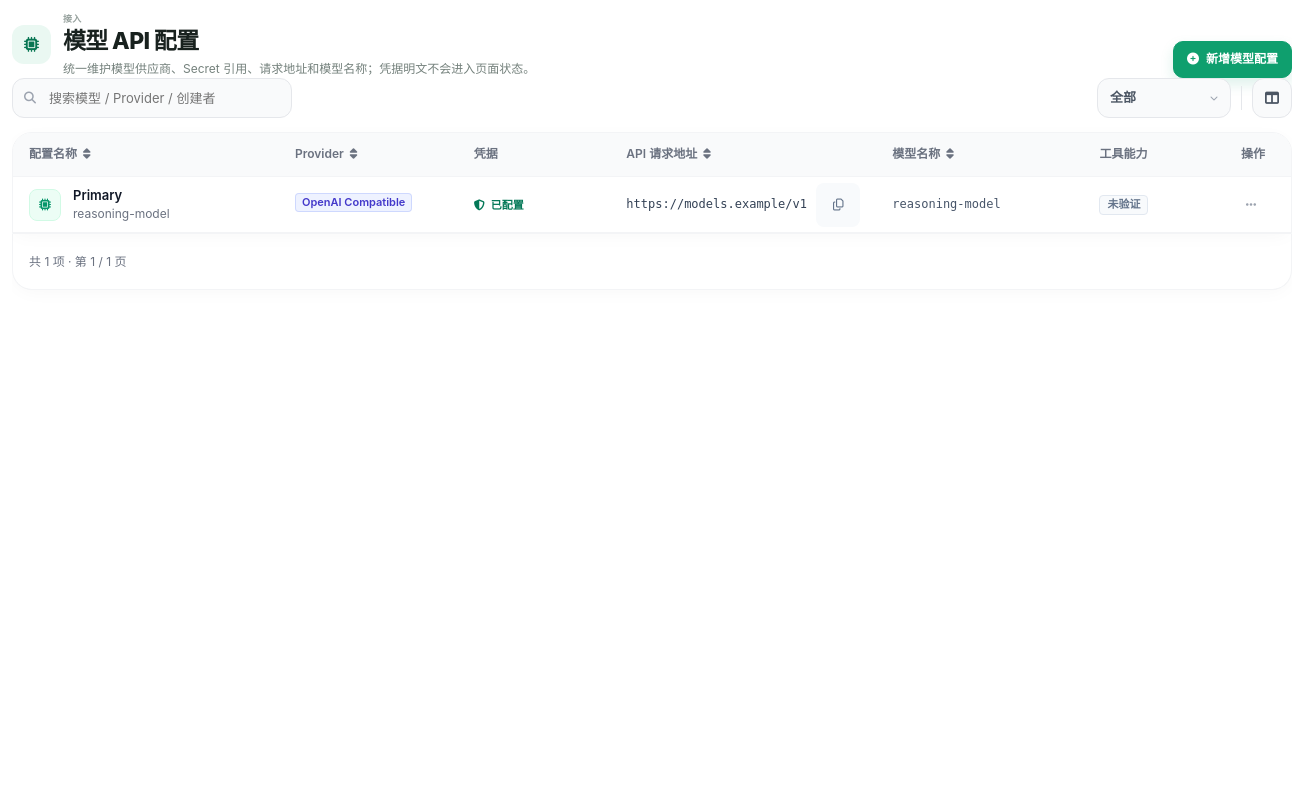
model config v1 behavior › verifies only the persisted v1 resource and reloads its active page
Click the button named "更多操作" at (1251, 205), box [1233,187,1269,223]
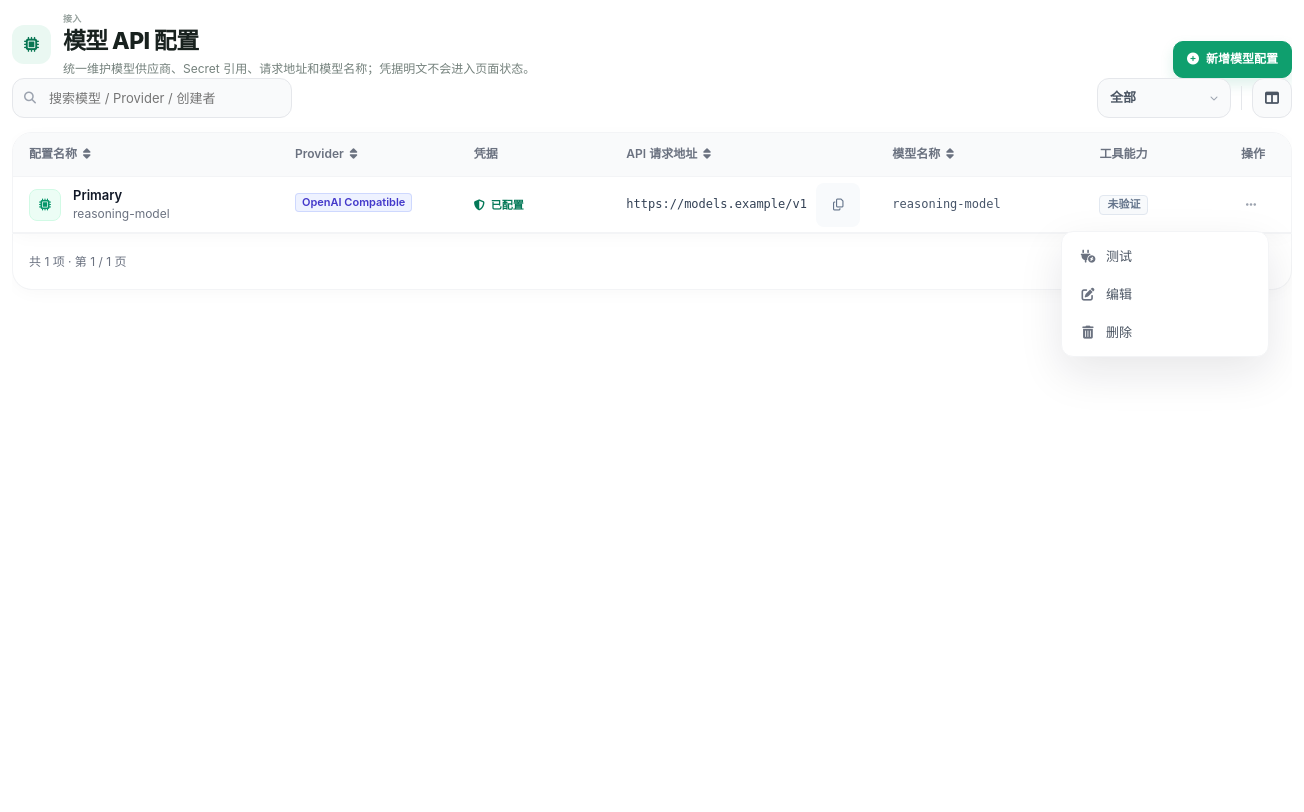
Click the menu item with aria-label "测试" at (1165, 256), box [1068,238,1262,274]
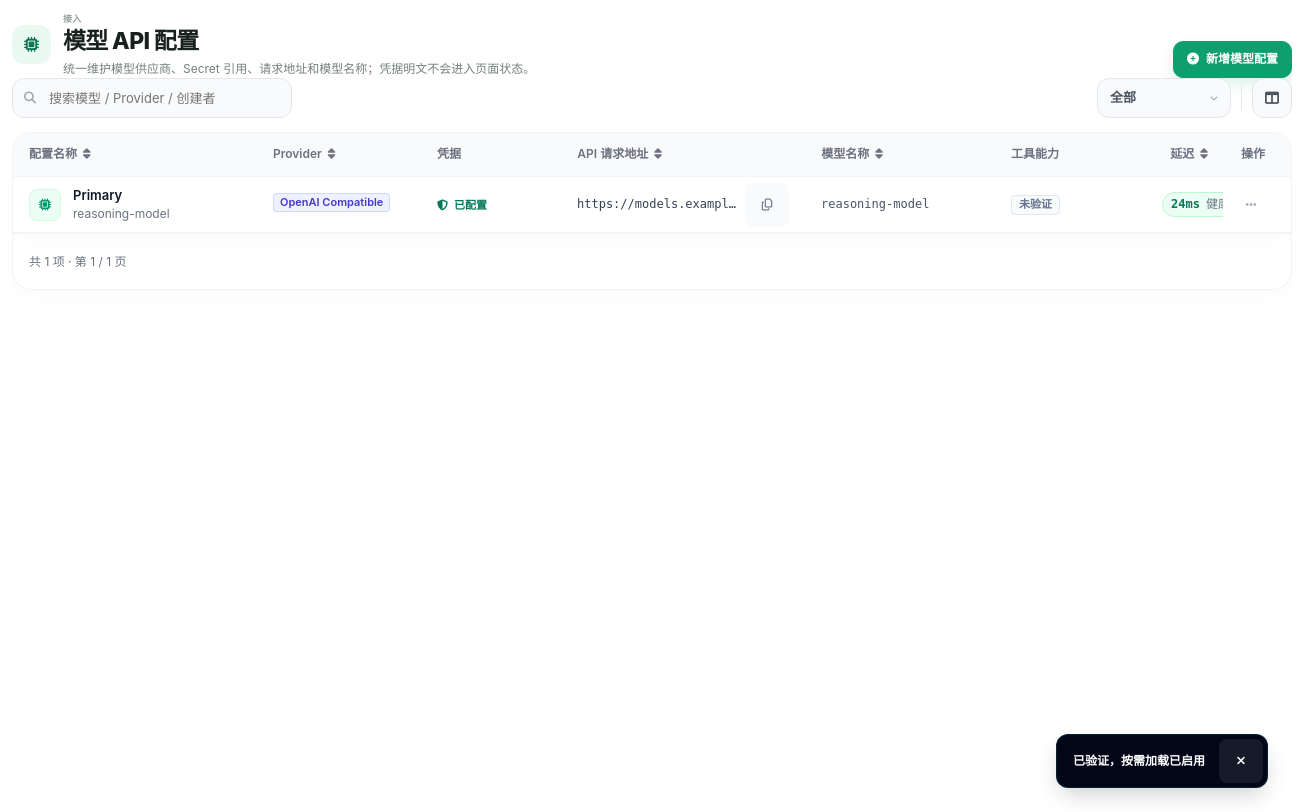
Result: the text "已验证，按需加载已启用" is shown at [1073,752,1205,770]
